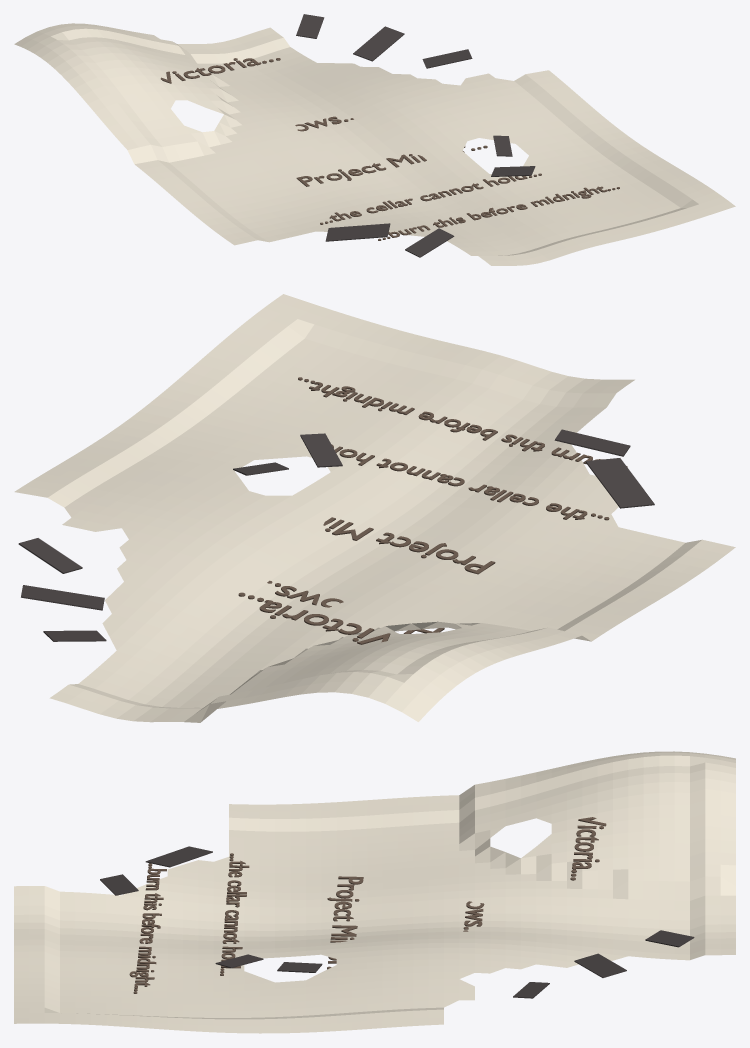
The model's file is partially_burnt_letter.glb.
3 views of the same model, one above another, from view 1: azimuth 30°, elevation 25°; view 2: azimuth 150°, elevation 25°; view 3: azimuth 270°, elevation 25° (orthographic). The views are drawn at different scales.
Parts seen in each view (by area): view 1: Letter_BurntParchment, Letter_Handwriting_Line_5, Letter_Handwriting_Line_4, Letter_CharredAshFlake_4, Letter_CharredAshFlake_1, Letter_Handwriting_Line_3, Letter_Handwriting_Line_1, Letter_CharredAshFlake_5, Letter_CharredAshFlake_2, Letter_CharredAshFlake_3, Letter_CharredAshFlake_7; view 2: Letter_BurntParchment, Letter_Handwriting_Line_5, Letter_Handwriting_Line_4, Letter_CharredAshFlake_4, Letter_Handwriting_Line_3, Letter_Handwriting_Line_1, Letter_CharredAshFlake_1, Letter_CharredAshFlake_5, Letter_CharredAshFlake_2, Letter_CharredAshFlake_7; view 3: Letter_BurntParchment, Letter_Handwriting_Line_5, Letter_Handwriting_Line_4, Letter_Handwriting_Line_3, Letter_Handwriting_Line_1, Letter_CharredAshFlake_4, Letter_CharredAshFlake_1, Letter_CharredAshFlake_3, Letter_CharredAshFlake_5.
Part boxes in pixels (x1=…): Letter_BurntParchment: x1=14, y1=23, x2=735, y2=265; Letter_Handwriting_Line_5: x1=378, y1=186, x2=619, y2=240; Letter_Handwriting_Line_4: x1=320, y1=173, x2=541, y2=224; Letter_CharredAshFlake_4: x1=325, y1=223, x2=390, y2=241; Letter_CharredAshFlake_1: x1=353, y1=26, x2=404, y2=61; Letter_Handwriting_Line_3: x1=296, y1=145, x2=487, y2=186; Letter_Handwriting_Line_1: x1=160, y1=58, x2=280, y2=83; Letter_CharredAshFlake_5: x1=405, y1=228, x2=454, y2=257; Letter_CharredAshFlake_2: x1=422, y1=49, x2=472, y2=68; Letter_CharredAshFlake_3: x1=296, y1=14, x2=324, y2=38; Letter_CharredAshFlake_7: x1=491, y1=166, x2=535, y2=176; Letter_BurntParchment: x1=14, y1=294, x2=735, y2=722; Letter_Handwriting_Line_5: x1=298, y1=377, x2=627, y2=467; Letter_Handwriting_Line_4: x1=331, y1=444, x2=609, y2=520; Letter_CharredAshFlake_4: x1=585, y1=458, x2=654, y2=508; Letter_Handwriting_Line_3: x1=323, y1=517, x2=495, y2=574; Letter_Handwriting_Line_1: x1=238, y1=592, x2=390, y2=644; Letter_CharredAshFlake_1: x1=21, y1=585, x2=104, y2=610; Letter_CharredAshFlake_5: x1=554, y1=429, x2=630, y2=456; Letter_CharredAshFlake_2: x1=18, y1=538, x2=82, y2=573; Letter_CharredAshFlake_7: x1=300, y1=433, x2=342, y2=467; Letter_BurntParchment: x1=14, y1=751, x2=735, y2=1033; Letter_Handwriting_Line_5: x1=129, y1=863, x2=166, y2=993; Letter_Handwriting_Line_4: x1=220, y1=853, x2=249, y2=975; Letter_Handwriting_Line_3: x1=327, y1=876, x2=363, y2=969; Letter_Handwriting_Line_1: x1=570, y1=817, x2=606, y2=880; Letter_CharredAshFlake_4: x1=145, y1=846, x2=212, y2=867; Letter_CharredAshFlake_1: x1=574, y1=953, x2=626, y2=977; Letter_CharredAshFlake_3: x1=645, y1=930, x2=694, y2=947; Letter_CharredAshFlake_5: x1=100, y1=874, x2=138, y2=895.
Size of the model in its own units: 0.18 by 0.0284 by 0.24.
